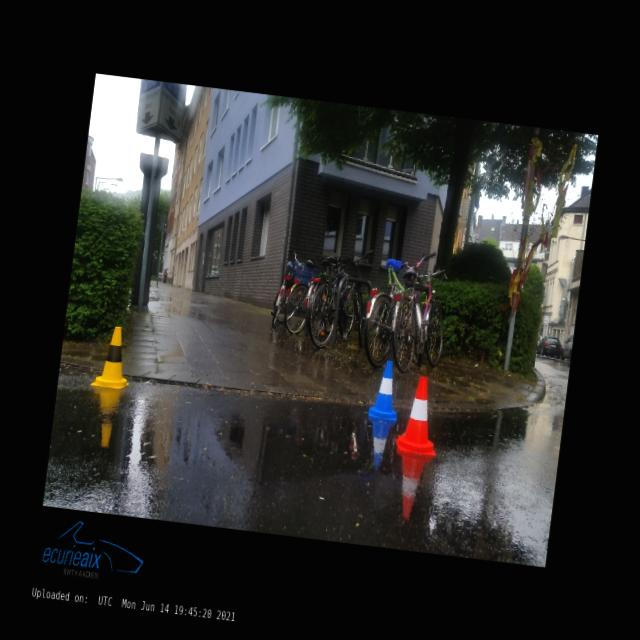blue_cone: (368, 358, 402, 421)
orange_cone: (394, 375, 444, 456)
yellow_cone: (90, 324, 135, 389)
